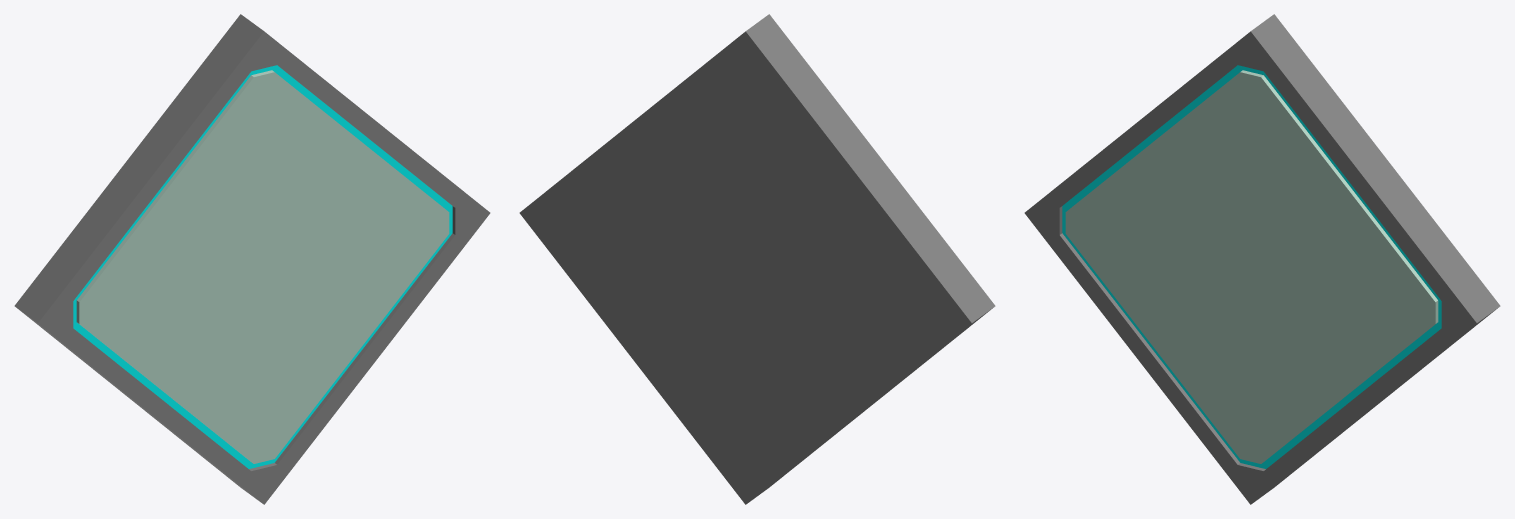
The model's file is bathroomMirror.glb.
The picture shows the model from 3 angles, left to right: view 1: azimuth 30°, elevation 25°; view 2: azimuth 150°, elevation 25°; view 3: azimuth 330°, elevation 25°; orthographic projection.
Parts seen in each view (by area): view 1: bathroomMirror; view 2: bathroomMirror; view 3: bathroomMirror.
Boxes of the visible parts, bbox=[...] form: bathroomMirror: bbox=[14, 14, 490, 504]; bathroomMirror: bbox=[519, 14, 995, 504]; bathroomMirror: bbox=[1024, 14, 1500, 504].
Size of the model in its own units: 1.03 by 1.03 by 0.0936.
